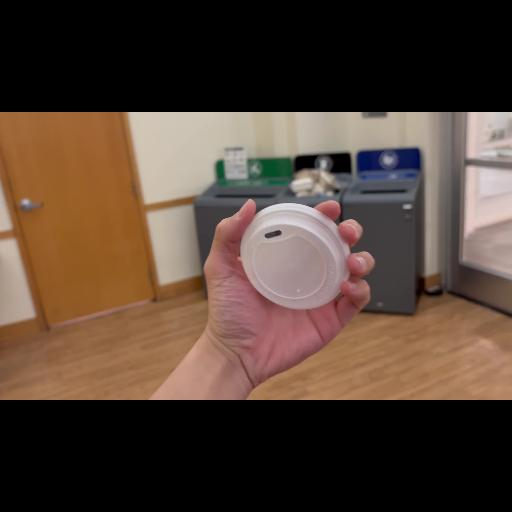lp_cup_lids: (230, 200, 366, 314)
